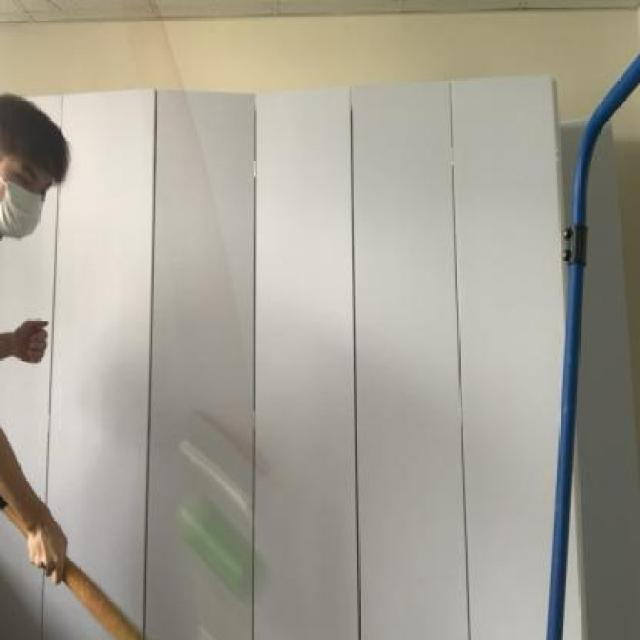baseball: (162, 490, 252, 599)
